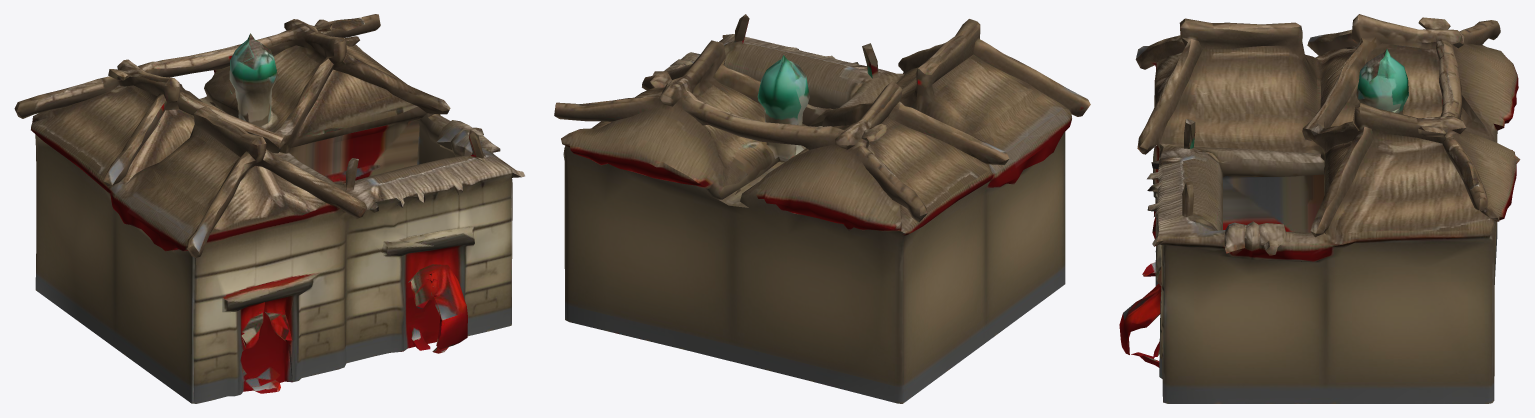
Rendered from palmares_mocambo.glb.
3 renders of one model, left to right at view 1: azimuth 30°, elevation 25°; view 2: azimuth 150°, elevation 25°; view 3: azimuth 270°, elevation 25°, orthographic. The views are drawn at different scales.
Parts seen in each view (by area): view 1: geometry_0; view 2: geometry_0; view 3: geometry_0.
Part boxes in pixels (box(x1,y1,x2,y2)): geometry_0: box(14, 14, 524, 403); geometry_0: box(554, 14, 1090, 403); geometry_0: box(1119, 14, 1520, 403).
Bounding box in the file's own units: 2.4 × 1.61 × 2.14.
1 material, 1 textured.
